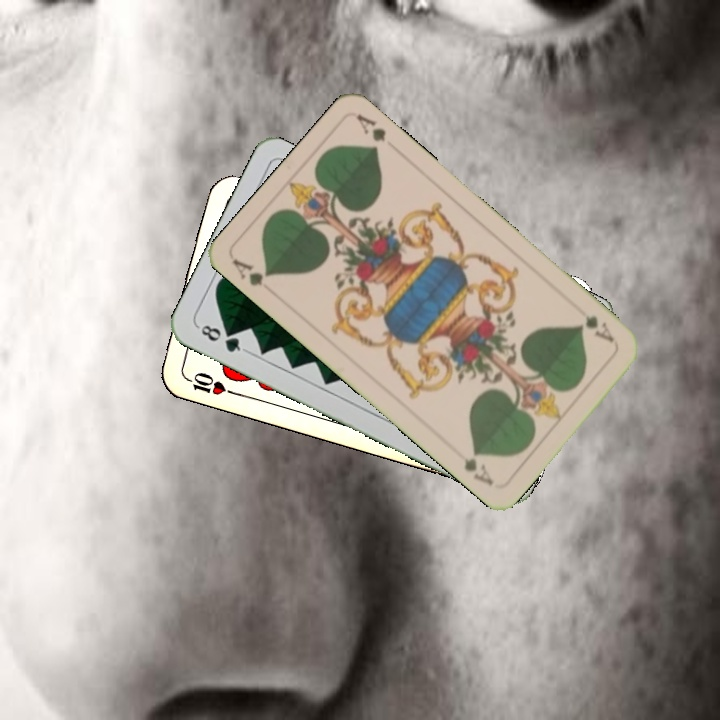G8: (194, 321, 249, 355)
GA: (228, 255, 273, 289), (573, 311, 617, 345)
H10: (181, 368, 238, 398)
